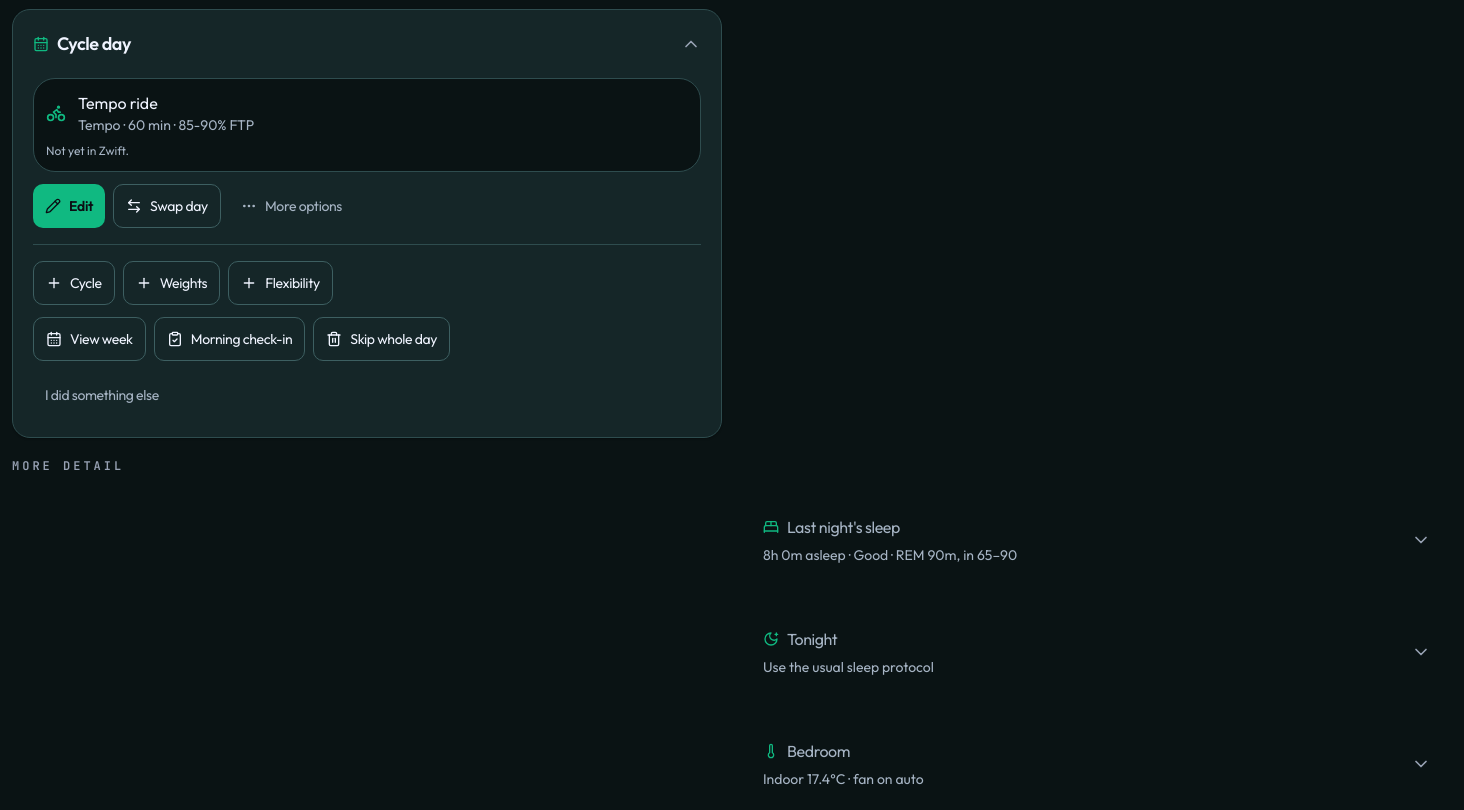
Test: DashboardPage › moves the morning feedback ask into the Last night section instead of stacking it under the verdict (Batch 123)
This screenshot has width=1464, height=810.
(page scrolled)
Check: the text "How does this land?" is not shown
Click the button "Last night's sleep 8h 0m asleep · Good · REM 90m, in 65–90": (843, 527) [743,495,1451,585]
(page scrolled)
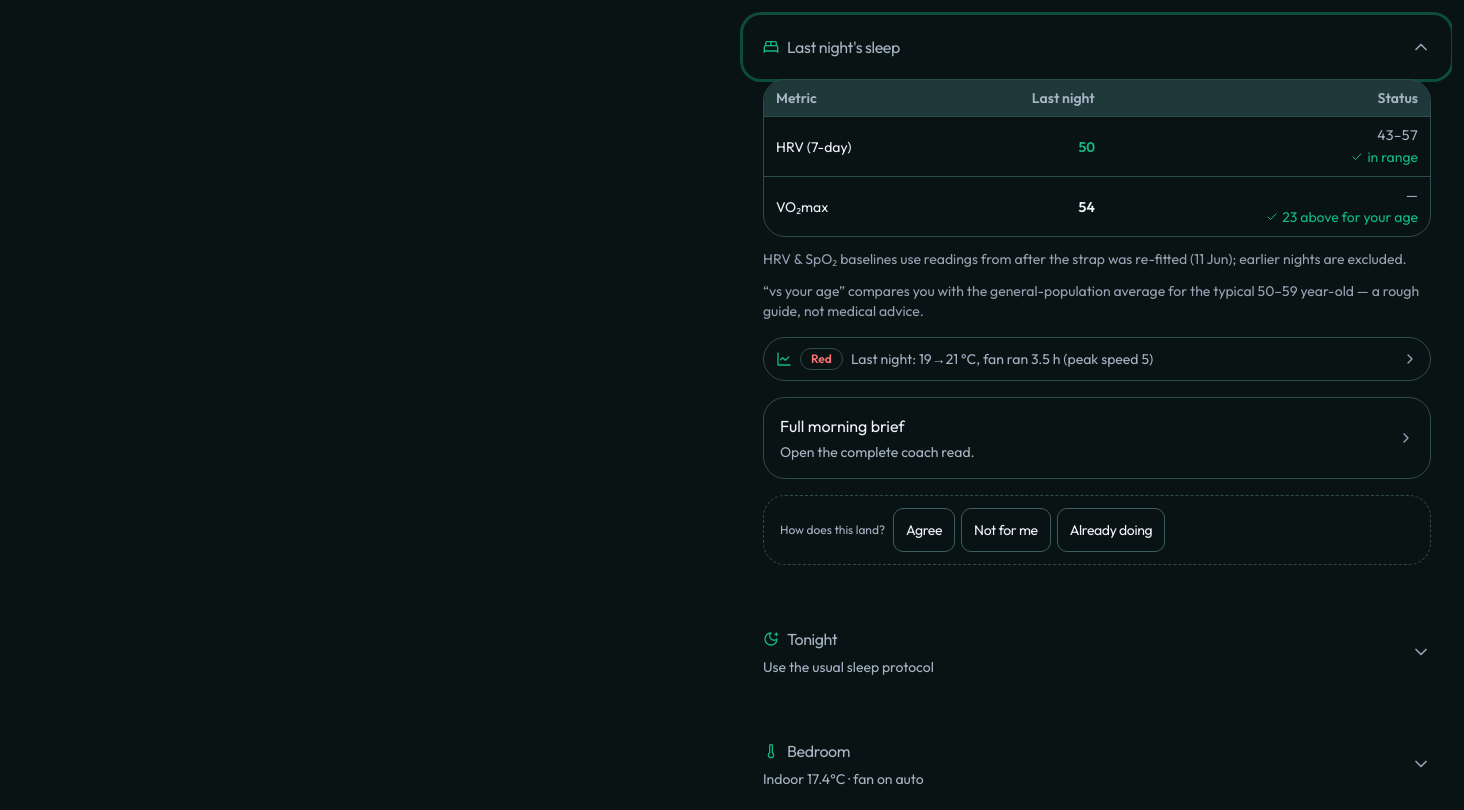
Check: the text "How does this land?" is shown, box [780,522,885,538]
